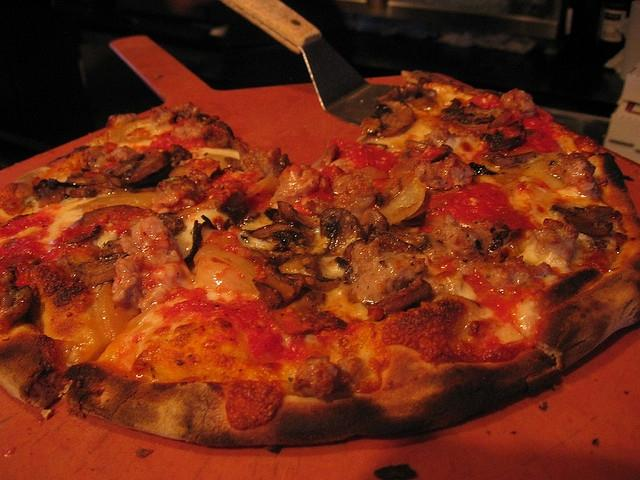mushroom: (343, 233, 423, 291), (367, 278, 432, 320), (552, 204, 622, 238), (320, 208, 366, 256), (121, 152, 171, 192), (360, 102, 412, 136), (442, 98, 496, 125), (252, 277, 296, 309), (32, 178, 98, 199), (248, 220, 302, 240), (358, 207, 390, 237), (481, 130, 524, 152), (75, 256, 118, 276), (406, 96, 440, 112)
